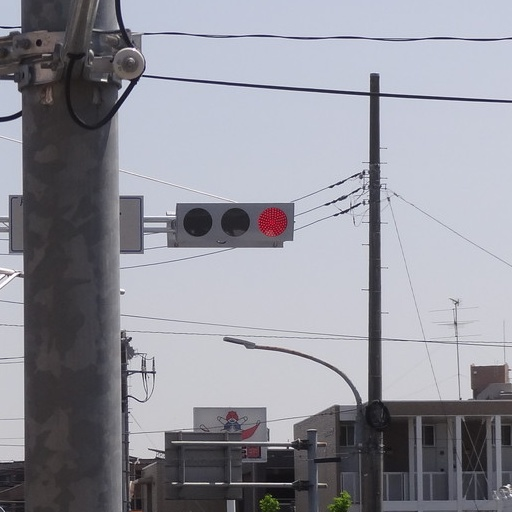Traffic_Signal_Red: (174, 196, 297, 246)
